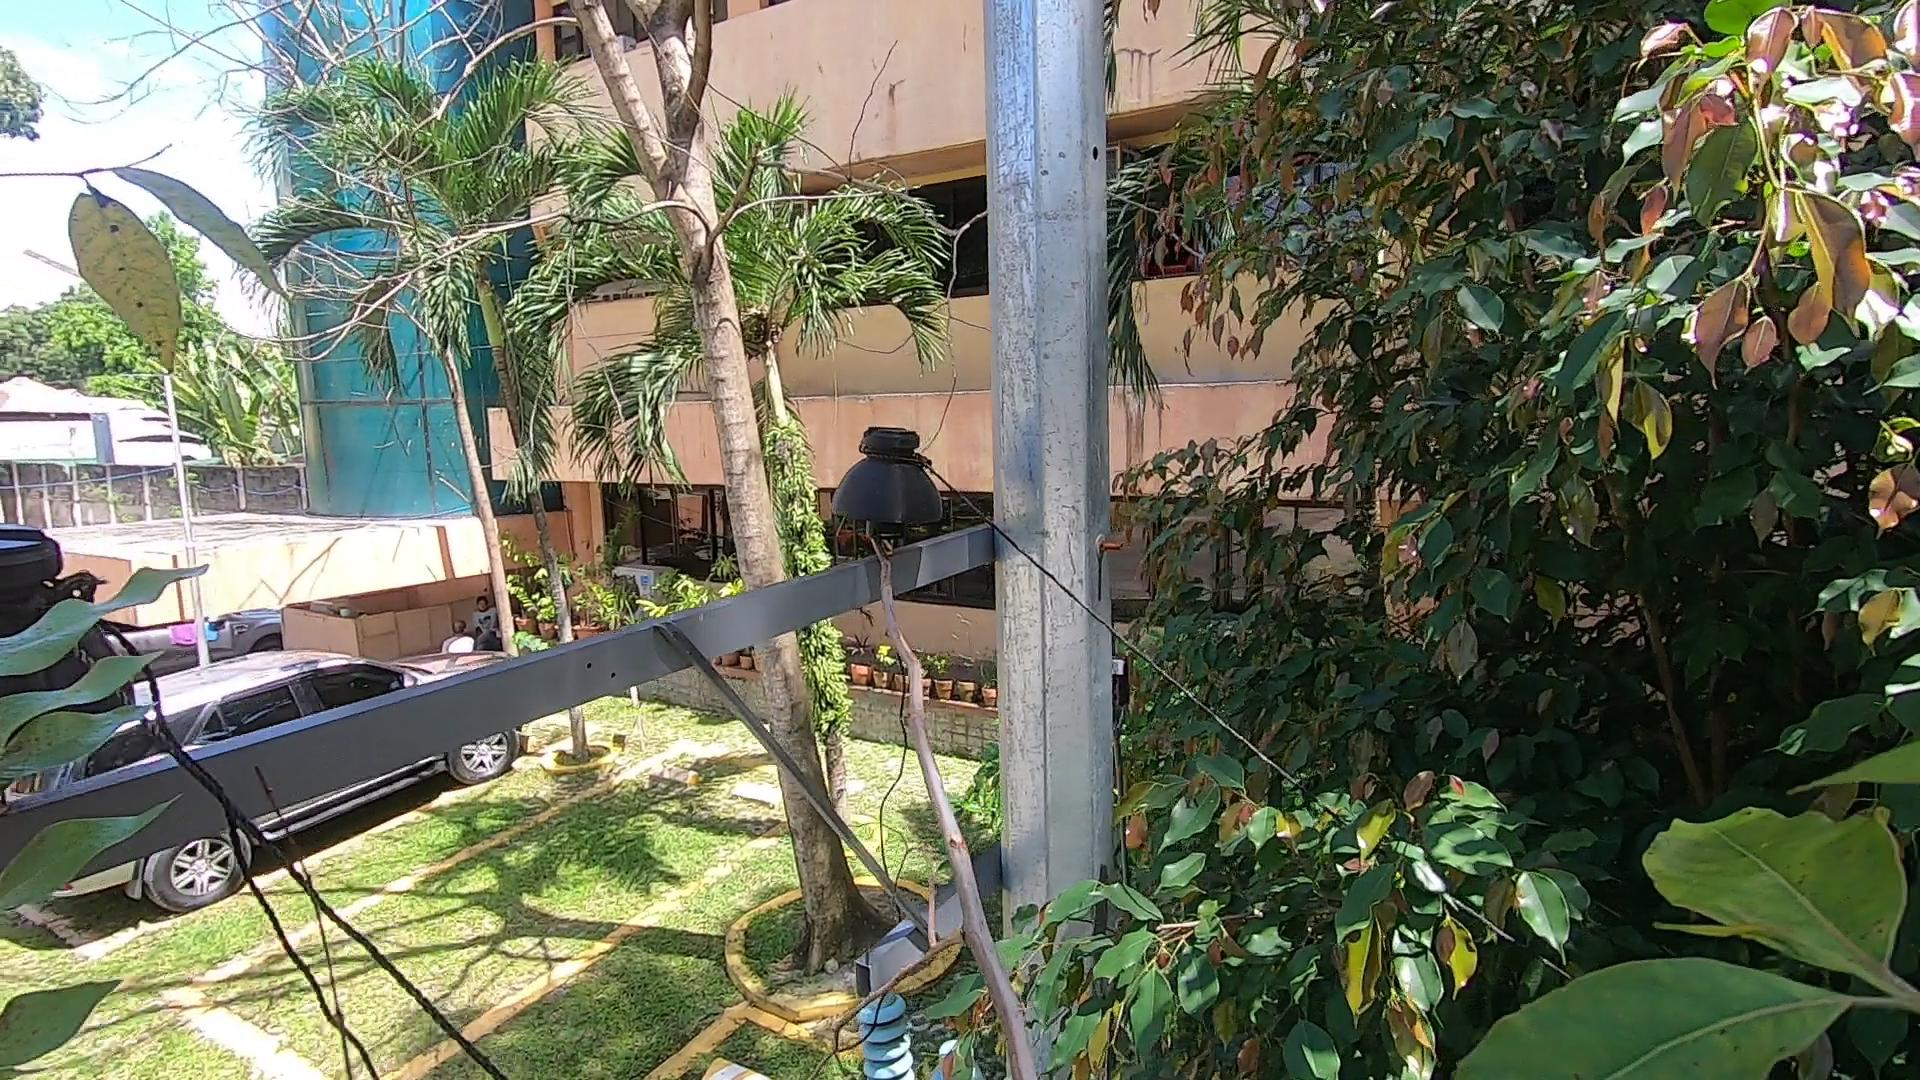branch with leaves: (895, 897, 1133, 1080)
leaf: (1, 539, 200, 996)
tree branch: (845, 469, 1054, 1080)
